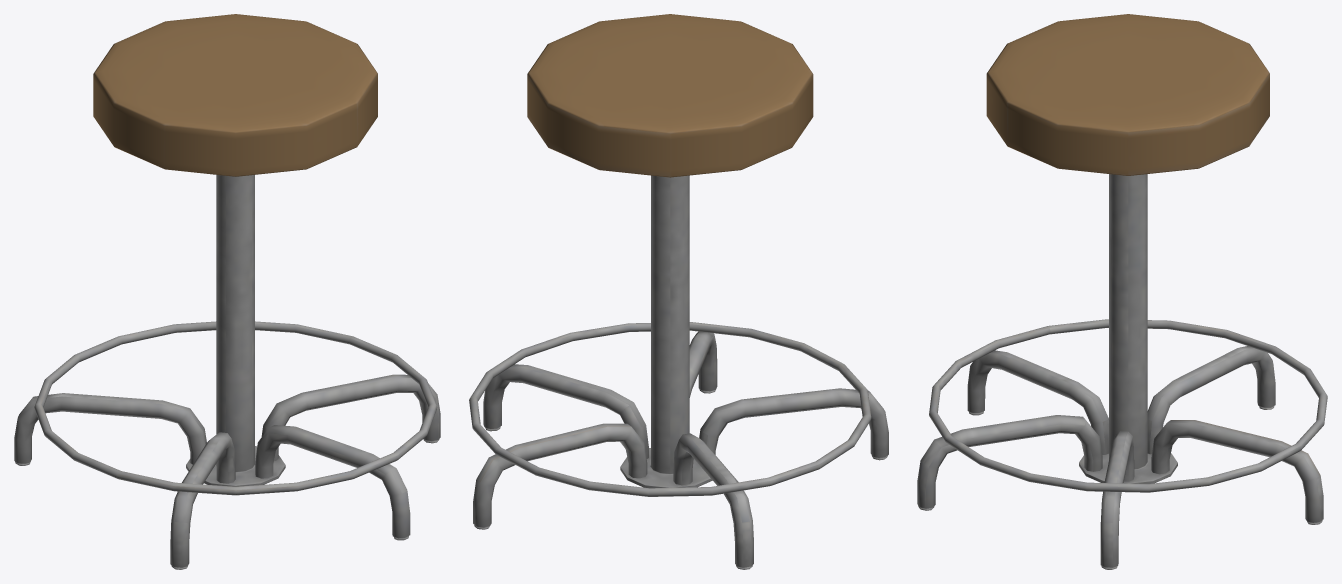
Rendered from Stool.fbx.
3 renders of one model, left to right at view 1: azimuth 30°, elevation 25°; view 2: azimuth 150°, elevation 25°; view 3: azimuth 270°, elevation 25°, orthographic.
Parts seen in each view (by area): view 1: Stool; view 2: Stool; view 3: Stool.
Part boxes in pixels (x1,y1,x2,y2): Stool: (14,14,440,569); Stool: (469,14,888,569); Stool: (917,14,1327,569).
Bounding box in the file's own units: 0.545 × 0.5803 × 0.53.
